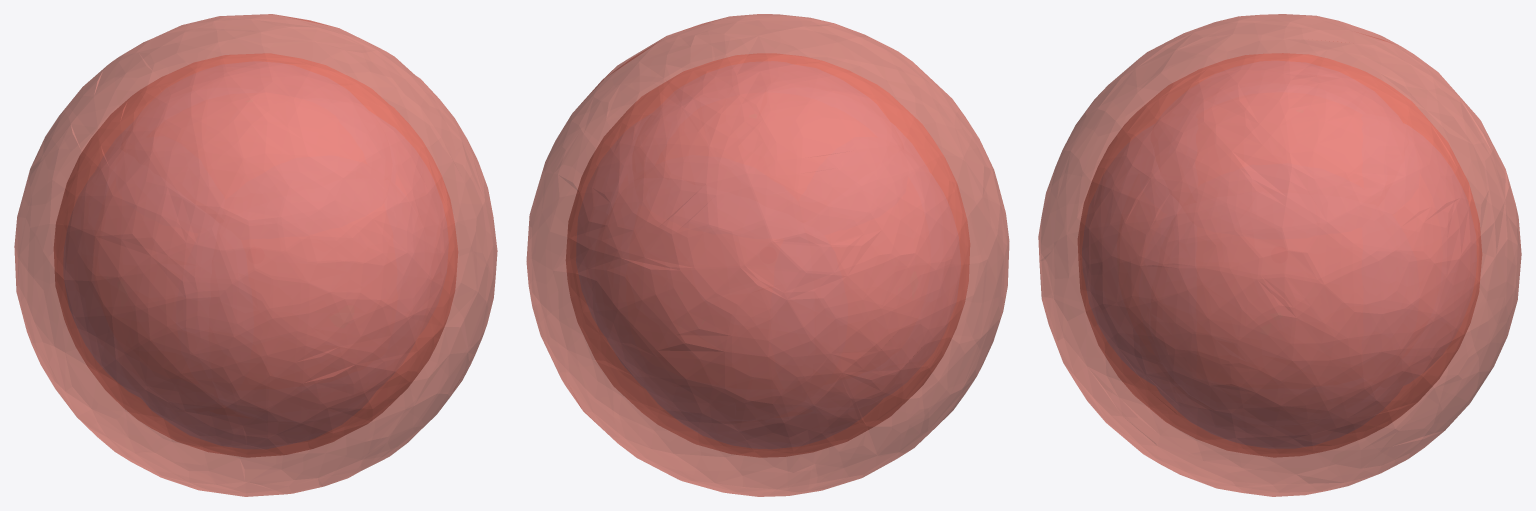
File: orbital.glb
The picture shows the model from 3 angles, left to right: view 1: azimuth 30°, elevation 25°; view 2: azimuth 150°, elevation 25°; view 3: azimuth 270°, elevation 25°; orthographic projection.
Parts seen in each view (by area): view 1: Cs_n6_s_ml0_node, Cs_n5_s_ml0_node; view 2: Cs_n6_s_ml0_node, Cs_n5_s_ml0_node; view 3: Cs_n6_s_ml0_node, Cs_n5_s_ml0_node.
Boxes of the visible parts, x1,y1,x2,y2 form: Cs_n6_s_ml0_node: (14,14,497,496); Cs_n5_s_ml0_node: (54,53,457,457); Cs_n6_s_ml0_node: (526,14,1009,496); Cs_n5_s_ml0_node: (566,53,969,457); Cs_n6_s_ml0_node: (1038,14,1521,496); Cs_n5_s_ml0_node: (1078,53,1481,457).
Size of the model in its own units: 3.06 by 3.06 by 3.06.
